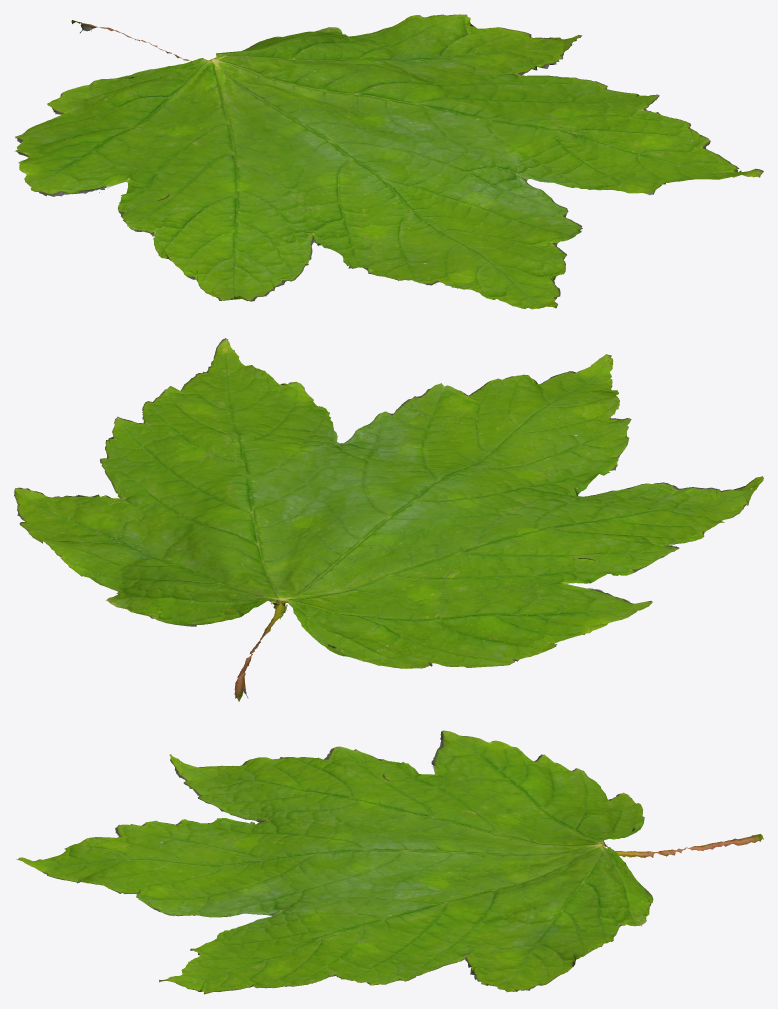
The model's file is maple_leaf.glb.
3 views of the same model, one above another, from view 1: azimuth 30°, elevation 25°; view 2: azimuth 150°, elevation 25°; view 3: azimuth 270°, elevation 25° (orthographic). The views are drawn at different scales.
Parts seen in each view (by area): view 1: ahorn_simple_1x4k_norm+texobjcleanermaterialmergergles; view 2: ahorn_simple_1x4k_norm+texobjcleanermaterialmergergles; view 3: ahorn_simple_1x4k_norm+texobjcleanermaterialmergergles.
Boxes of the visible parts, x1,y1,x2,y2 form: ahorn_simple_1x4k_norm+texobjcleanermaterialmergergles: (14,14,763,309); ahorn_simple_1x4k_norm+texobjcleanermaterialmergergles: (14,338,763,701); ahorn_simple_1x4k_norm+texobjcleanermaterialmergergles: (16,730,763,994).
Size of the model in its own units: 2.49 by 0.1011 by 3.13.
Materials: 1 (1 with a texture image).
